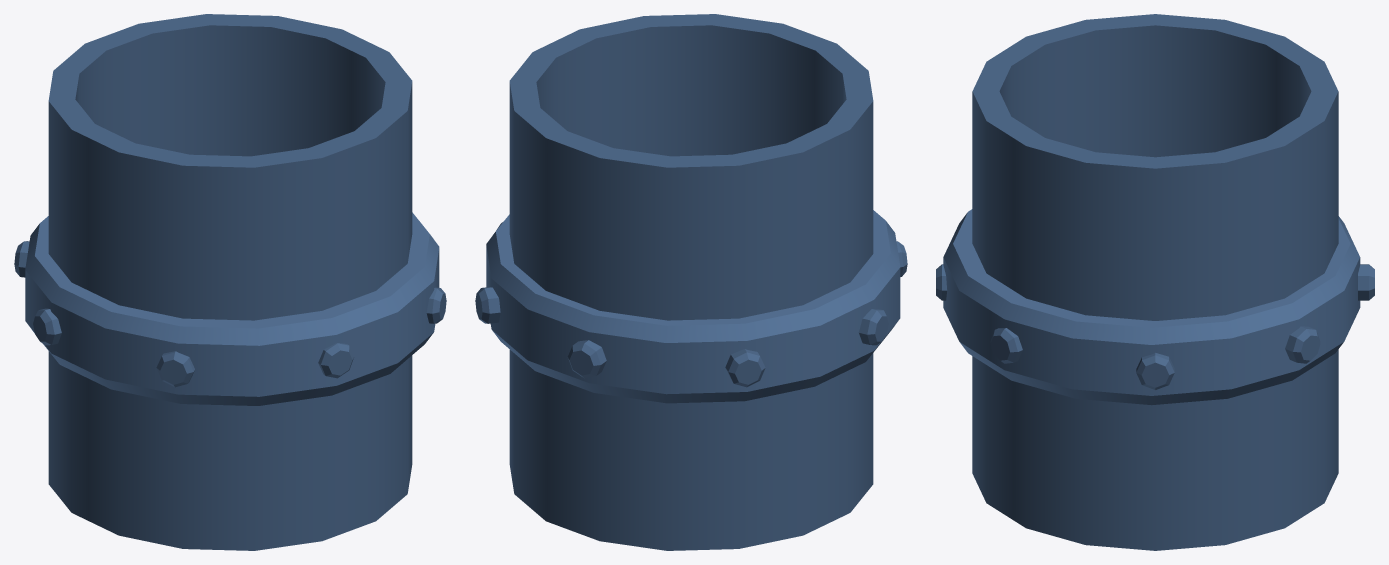
The model's file is Pipe_Straight.glb.
3 views of the same model, side by side, from view 1: azimuth 30°, elevation 25°; view 2: azimuth 150°, elevation 25°; view 3: azimuth 270°, elevation 25° (orthographic).
Parts seen in each view (by area): view 1: Pipe_Straight; view 2: Pipe_Straight; view 3: Pipe_Straight.
Boxes of the visible parts, x1=… form: Pipe_Straight: x1=14, y1=14, x2=446, y2=550; Pipe_Straight: x1=475, y1=14, x2=907, y2=550; Pipe_Straight: x1=936, y1=14, x2=1374, y2=550.
Size of the model in its own units: 2.08 by 2 by 2.08.
